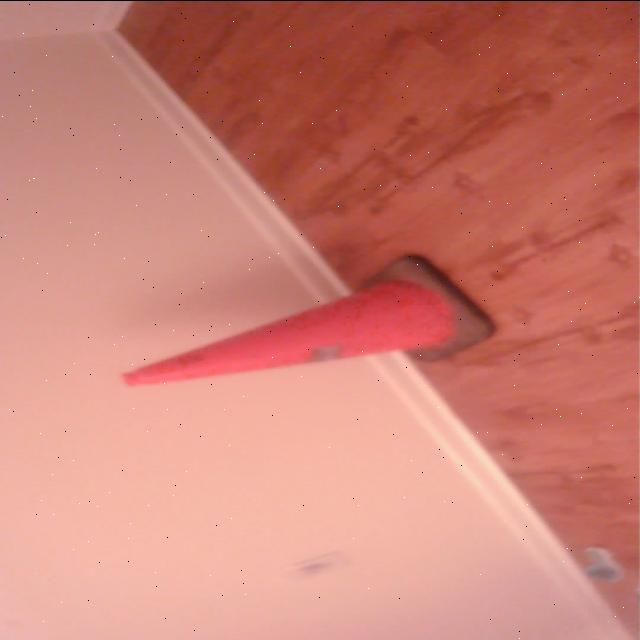traffic cone: (116, 251, 502, 393)
